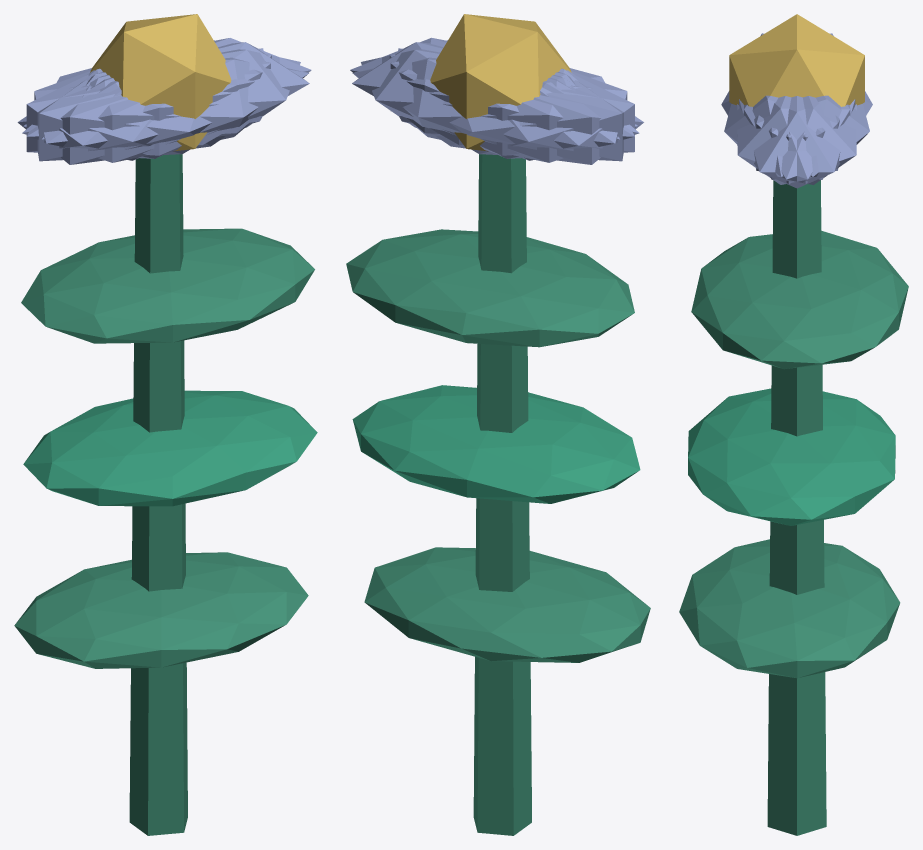
The model's file is momordica-charantia.glb.
The picture shows the model from 3 angles, left to right: view 1: azimuth 30°, elevation 25°; view 2: azimuth 150°, elevation 25°; view 3: azimuth 270°, elevation 25°; orthographic projection.
Visible parts, largest first — view 1: stem, leaf0, leaf1, leaf2, center, petal1, petal6, petal2, petal5, petal7, petal0, petal4 (+2 smaller); view 2: stem, leaf2, leaf1, leaf0, center, petal8, petal3, petal7, petal4, petal2, petal0, petal5 (+2 smaller); view 3: leaf2, stem, leaf1, leaf0, center, petal0, petal5, petal4, petal8, petal1.
Part boxes in pixels (<box>): stem: <box>129,154,187,835</box>; leaf0: <box>14,552,308,668</box>; leaf1: <box>23,390,317,506</box>; leaf2: <box>21,228,314,343</box>; center: <box>90,14,231,151</box>; petal1: <box>22,57,308,162</box>; petal6: <box>17,70,225,164</box>; petal2: <box>37,48,263,161</box>; petal5: <box>41,49,300,155</box>; petal7: <box>26,54,271,158</box>; petal0: <box>89,42,309,145</box>; petal4: <box>23,38,311,136</box>; stem: <box>473,154,531,835</box>; leaf2: <box>346,229,634,347</box>; leaf1: <box>352,385,640,503</box>; leaf0: <box>364,547,650,662</box>; center: <box>430,14,571,151</box>; petal8: <box>352,57,639,162</box>; petal3: <box>436,70,643,164</box>; petal7: <box>398,48,623,161</box>; petal4: <box>361,49,619,155</box>; petal2: <box>389,54,634,158</box>; petal0: <box>352,42,571,145</box>; petal5: <box>350,37,637,136</box>; leaf2: <box>691,230,908,369</box>; stem: <box>767,180,826,835</box>; leaf1: <box>688,388,895,525</box>; leaf0: <box>679,539,900,678</box>; center: <box>729,14,864,106</box>; petal0: <box>739,96,855,188</box>; petal5: <box>737,96,850,184</box>; petal4: <box>744,96,856,184</box>; petal8: <box>754,95,869,176</box>; petal1: <box>724,95,839,176</box>.
Bounding box in the file's own units: 0.1452 × 0.3935 × 0.1036.
